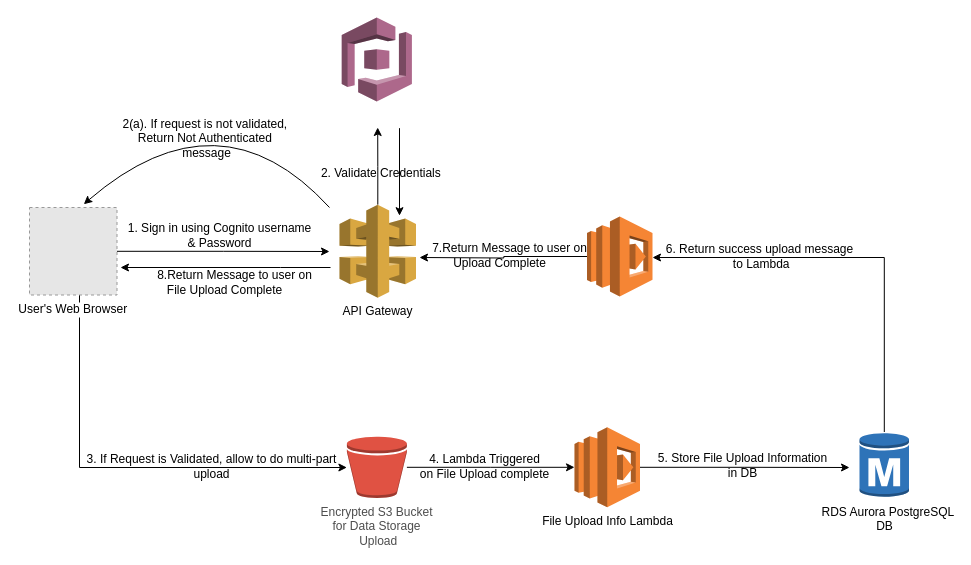
Some shapes in this 971 by 565 pixel diagram are drawn without their labels. Grey dashed boxes stand in for pictures. The box of each missing label's shape, as (x1, y1, x2, y2) in pixels:
Cognito User Pool: (341, 16, 412, 102)
Success Response Lambda: (586, 216, 652, 296)
